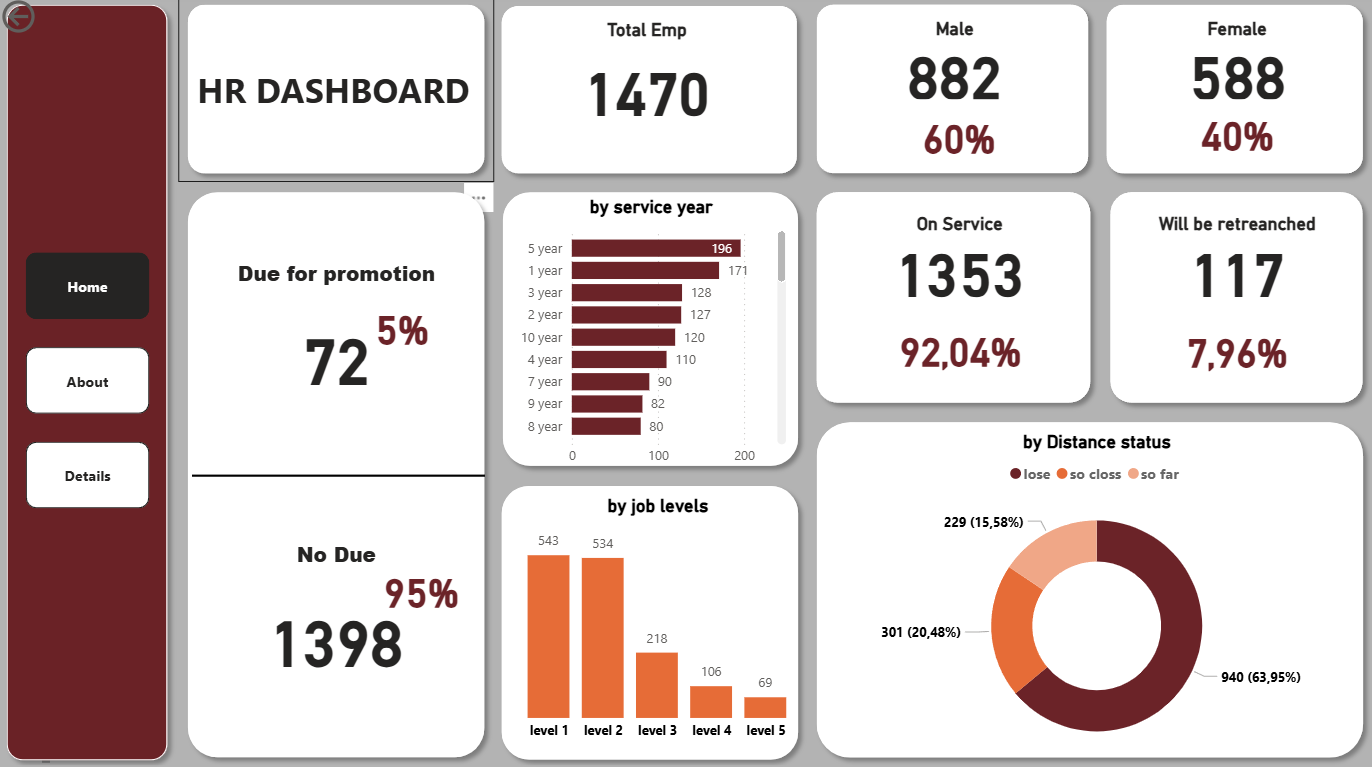

What the dashboard file says about the page in this screenshot:
{"tool":"powerbi","page":{"name":"Home","canvas":[1280,720],"ordinal":0},"visuals":[{"type":"shape","box":[0,0,167.4,720.9],"z":0},{"type":"shape","box":[168.8,0,293.8,175],"z":1000},{"type":"shape","box":[168.8,175,293.8,543.8],"z":2000},{"type":"shape","box":[460,1.2,292.5,173.8],"z":3000},{"type":"shape","box":[752.9,0,270.5,174.7],"z":4000},{"type":"shape","box":[1023.8,0,256.2,175],"z":5000},{"type":"shape","box":[461.2,175,292.5,272.5],"z":6000},{"type":"shape","box":[460,447.5,293.8,272.5],"z":7000},{"type":"shape","box":[1026.2,175,252.5,213.8],"z":8000},{"type":"shape","box":[753.8,175,272.5,213.8],"z":9000},{"type":"shape","box":[753.8,388.8,526.2,330],"z":10000},{"type":"card","title":"Total Emp","fields":{"Values":["all maesure.Total emp"]},"box":[488.9,22.4,232.6,108.2],"z":11000},{"type":"card","title":"Male ","fields":{"Values":["all maesure.Male"]},"box":[789.9,21.1,202.8,80.9],"z":12000},{"type":"card","title":"Female","fields":{"Values":["all maesure.Female"]},"box":[1052.4,21.1,202.8,80.9],"z":13000},{"type":"card","fields":{"Values":["all maesure.% Male"]},"box":[821,102,148,57.2],"z":14000},{"type":"card","fields":{"Values":["all maesure.% Female"]},"box":[1073.5,99.5,161.7,57.2],"z":15000},{"type":"textbox","box":[181.2,61.2,268.8,56.2],"z":16000},{"type":"card","title":"Due for promotion","fields":{"Values":["all maesure.Due for promotion"]},"box":[181.2,245,268.8,151.2],"z":17000},{"type":"card","fields":{"Values":["all maesure.% promotion"]},"box":[260,287.4,232.6,43.5],"z":18000},{"type":"card","title":"No Due","fields":{"Values":["all maesure.No Due"]},"box":[181.6,507.5,268.7,151.8],"z":19000},{"type":"card","fields":{"Values":["all maesure.% No due"]},"box":[260,531.2,268.7,44.8],"z":20000},{"type":"barChart","title":"by service year","fields":{"Category":["HR Analytics Data (2).service year"],"Y":["all maesure.Total emp"]},"box":[477.5,187.5,261.2,260],"z":21000},{"type":"columnChart","title":" by job levels","fields":{"Category":["HR Analytics Data (2).job levels"],"Y":["all maesure.Total emp"]},"box":[469,465.2,292.3,237.6],"z":22000},{"type":"actionButton","box":[0,0,100,40],"z":23000},{"type":"donutChart","title":" by Distance status","fields":{"Category":["HR Analytics Data (2).Distance status"],"Y":["all maesure.Total emp"]},"box":[766.3,405.5,513.8,313.5],"z":24000},{"type":"pageNavigator","box":[26.2,240,115,240],"z":25000},{"type":"card","title":"On Service","fields":{"Values":["all maesure.On service"]},"box":[793.6,202.8,202.8,84.6],"z":26000},{"type":"card","title":"Will be retreanched","fields":{"Values":["all maesure.Will be retreanched"]},"box":[1052.4,202.8,202.8,84.6],"z":27000},{"type":"card","fields":{"Values":["all maesure.% On service"]},"box":[825,302.5,143.8,53.8],"z":28000},{"type":"card","fields":{"Values":["all maesure.% Will be retreanched"]},"box":[1083.8,303.8,140,53.8],"z":29000},{"type":"shape","box":[181.2,296.2,272.5,301.2],"z":30000}]}

Visuals, with their boxes on the page's 1280x720 design canvas (x1, y1, x2, y2). These are canvas units, not pixel positions in the 1372x767 screenshot, which may show the page scaled, cropped or inside an application window:
shape: BBox(0, 0, 167, 721)
shape: BBox(169, 0, 463, 175)
shape: BBox(169, 175, 463, 719)
shape: BBox(460, 1, 752, 175)
shape: BBox(753, 0, 1023, 175)
shape: BBox(1024, 0, 1280, 175)
shape: BBox(461, 175, 754, 448)
shape: BBox(460, 448, 754, 720)
shape: BBox(1026, 175, 1279, 389)
shape: BBox(754, 175, 1026, 389)
shape: BBox(754, 389, 1280, 719)
"Total Emp" card: BBox(489, 22, 722, 131)
"Male " card: BBox(790, 21, 993, 102)
"Female" card: BBox(1052, 21, 1255, 102)
card - all maesure.% Male: BBox(821, 102, 969, 159)
card - all maesure.% Female: BBox(1074, 100, 1235, 157)
textbox: BBox(181, 61, 450, 117)
"Due for promotion" card: BBox(181, 245, 450, 396)
card - all maesure.% promotion: BBox(260, 287, 493, 331)
"No Due" card: BBox(182, 508, 450, 659)
card - all maesure.% No due: BBox(260, 531, 529, 576)
"by service year" barChart: BBox(478, 188, 739, 448)
" by job levels" columnChart: BBox(469, 465, 761, 703)
actionButton: BBox(0, 0, 100, 40)
" by Distance status" donutChart: BBox(766, 406, 1280, 719)
pageNavigator: BBox(26, 240, 141, 480)
"On Service" card: BBox(794, 203, 996, 287)
"Will be retreanched" card: BBox(1052, 203, 1255, 287)
card - all maesure.% On service: BBox(825, 302, 969, 356)
card - all maesure.% Will be retreanched: BBox(1084, 304, 1224, 358)
shape: BBox(181, 296, 454, 597)
